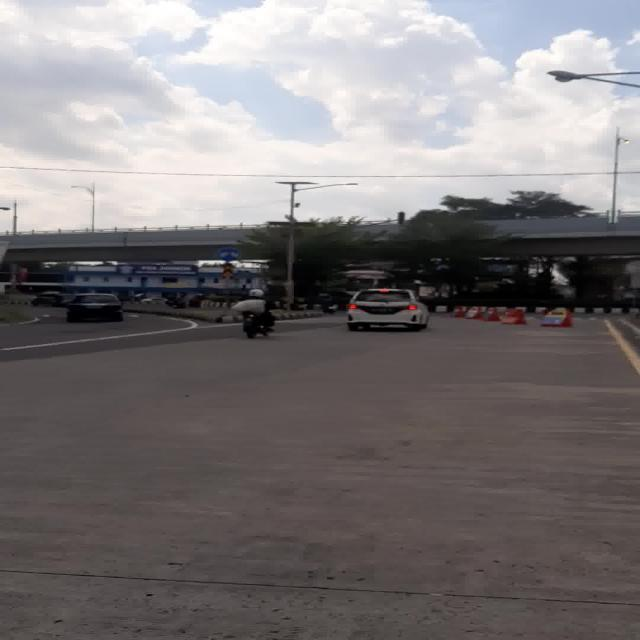Pilih Salah Satu Jalur: (217, 248, 239, 261)
